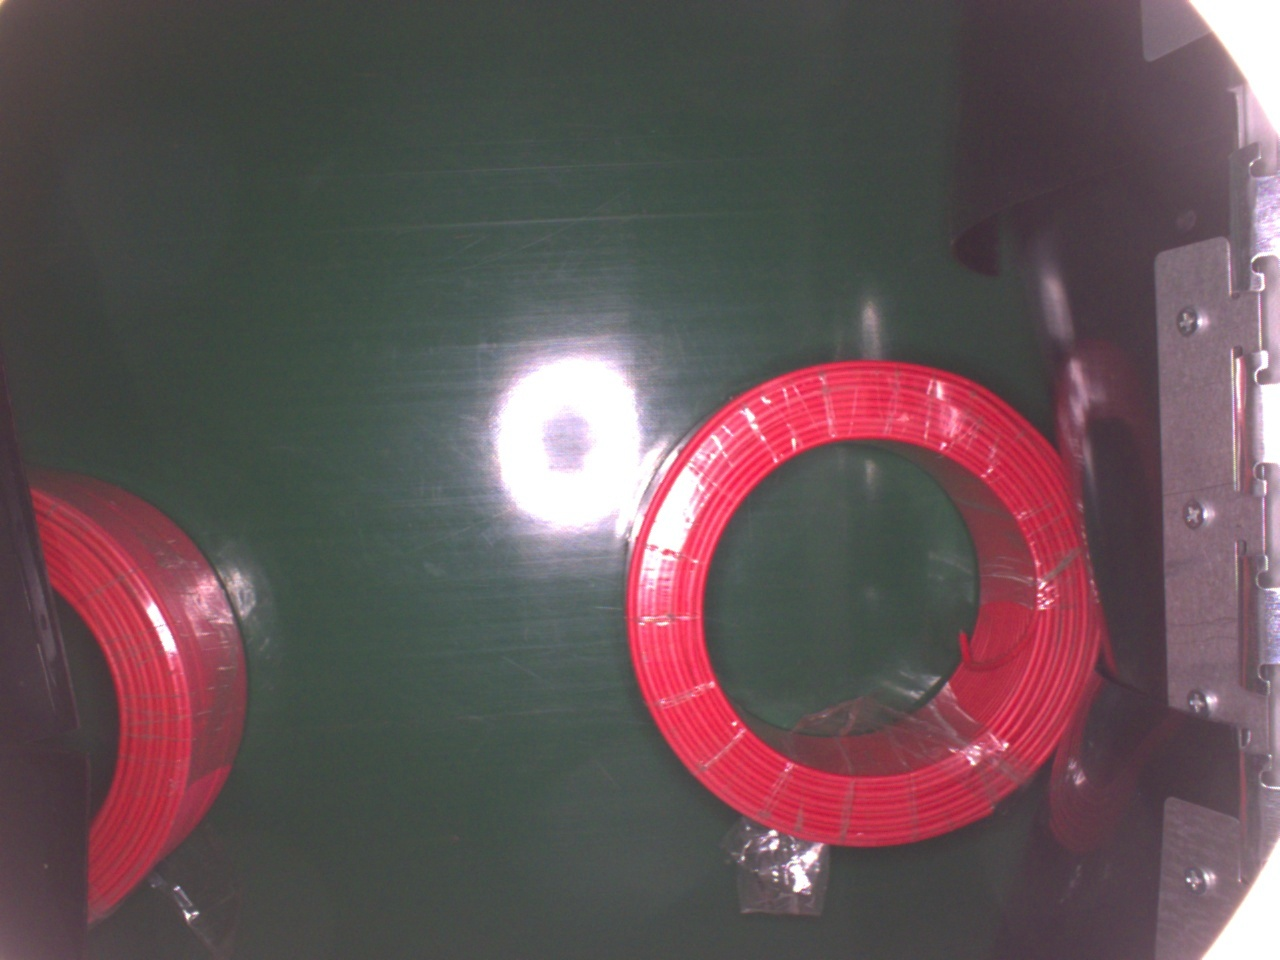red: (628, 359, 1096, 846), (15, 464, 244, 927)
